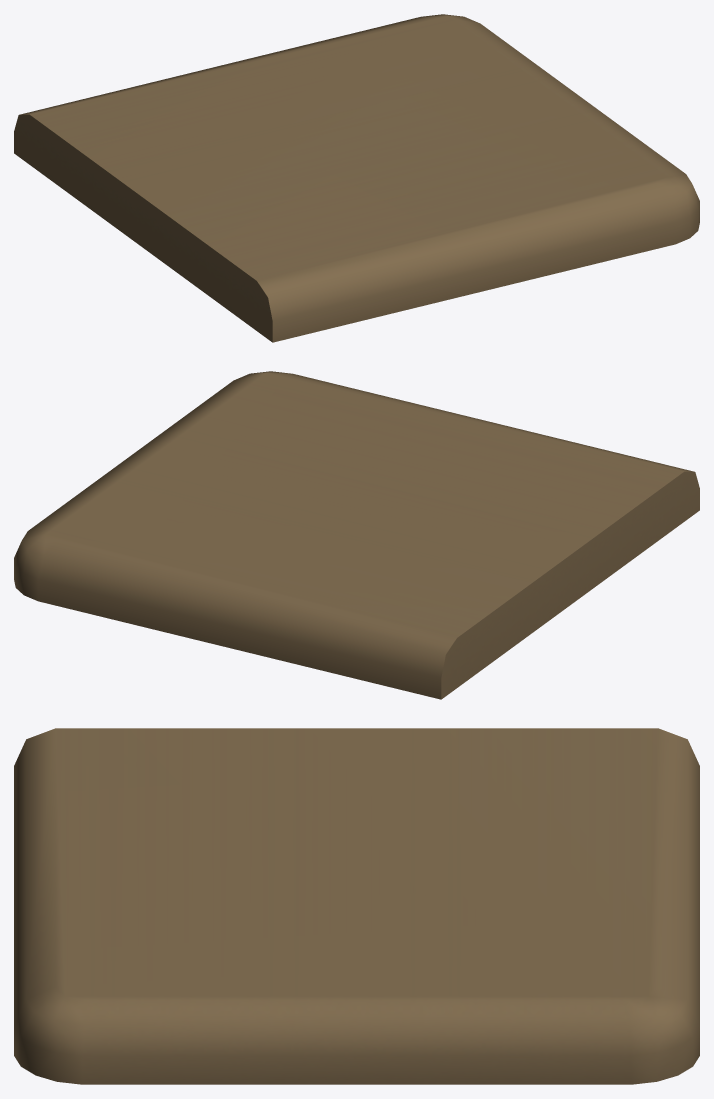
File: SM_Base_Corner_2.fbx
3 renders of one model, top to bottom at view 1: azimuth 30°, elevation 25°; view 2: azimuth 150°, elevation 25°; view 3: azimuth 270°, elevation 25°, orthographic. The views are drawn at different scales.
Parts seen in each view (by area): view 1: Base_Corner_2; view 2: Base_Corner_2; view 3: Base_Corner_2.
Part boxes in pixels (box(x1,y1,x2,y2)): Base_Corner_2: box(14, 14, 699, 342); Base_Corner_2: box(14, 371, 699, 699); Base_Corner_2: box(14, 728, 699, 1084).
Size of the model in its own units: 200 by 21.42 by 200.
